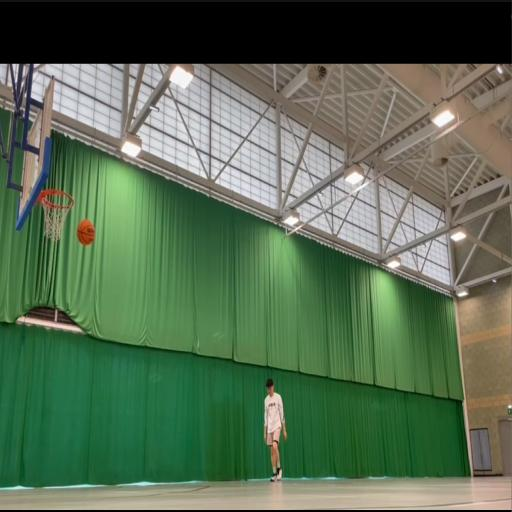hoops: (39, 182, 76, 247)
